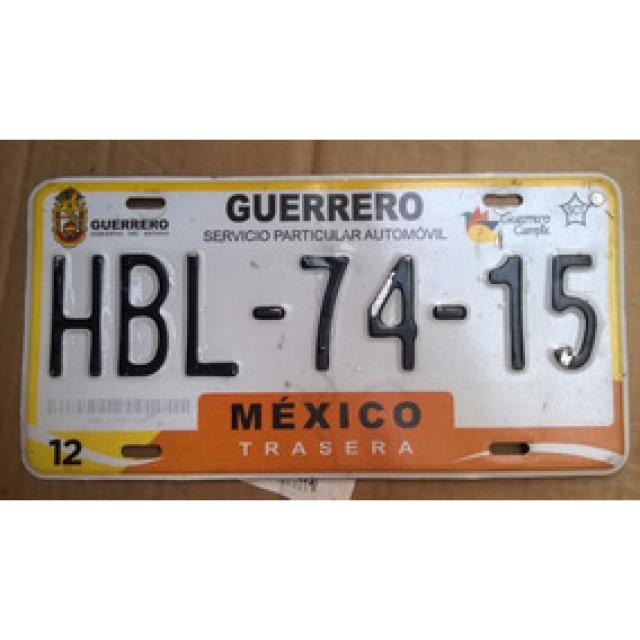placa: (40, 239, 609, 387)
